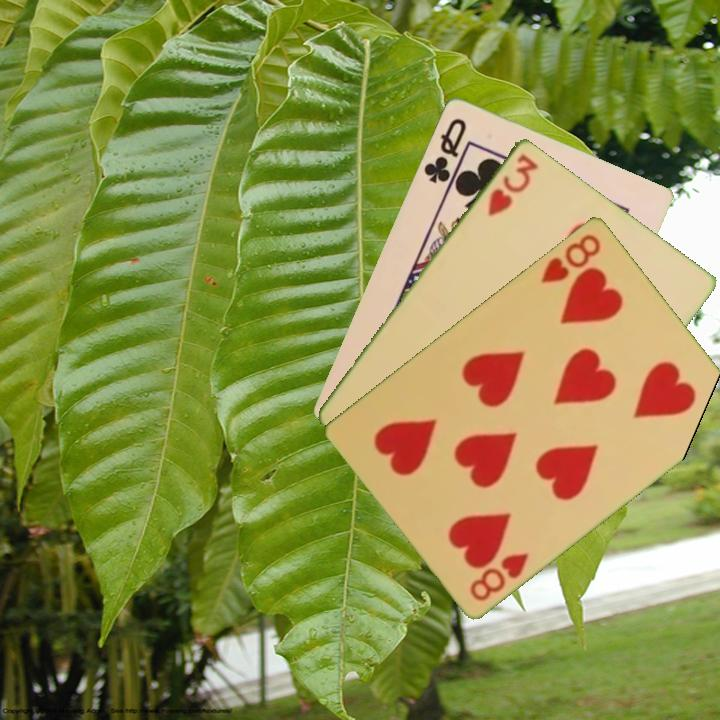3h: (484, 149, 541, 219)
8h: (536, 230, 604, 286), (466, 548, 532, 604)
Qc: (420, 114, 470, 186)
